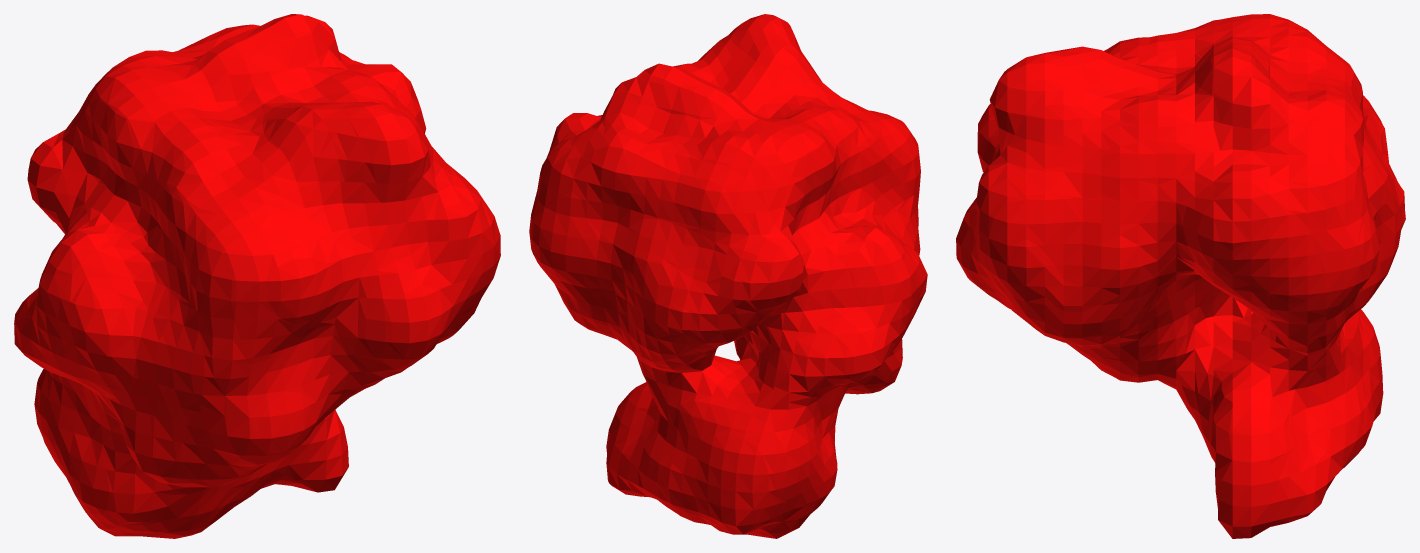
The model's file is purD_coarse.dae.
3 views of the same model, side by side, from view 1: azimuth 30°, elevation 25°; view 2: azimuth 150°, elevation 25°; view 3: azimuth 270°, elevation 25° (orthographic). The views are drawn at different scales.
Parts seen in each view (by area): view 1: purD; view 2: purD; view 3: purD.
Part boxes in pixels (x1,y1,x2,y2): purD: (14,14,500,538); purD: (529,14,927,538); purD: (956,14,1405,538).
Size of the model in its own units: 56.09 by 68.71 by 57.26.
